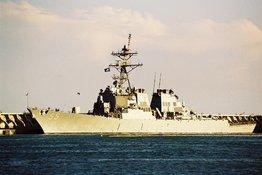warship: (24, 32, 258, 135)
